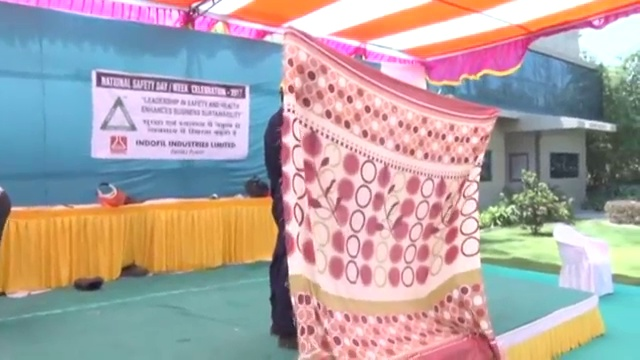person: (263, 80, 309, 349)
